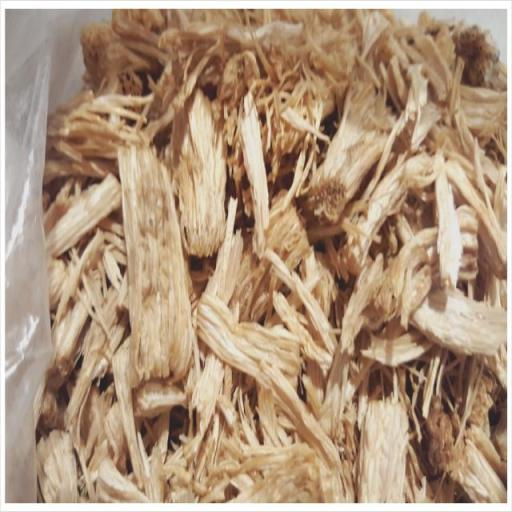Enoki Mushroom: (117, 142, 194, 388), (298, 77, 405, 229), (167, 85, 234, 258), (357, 395, 412, 504)
